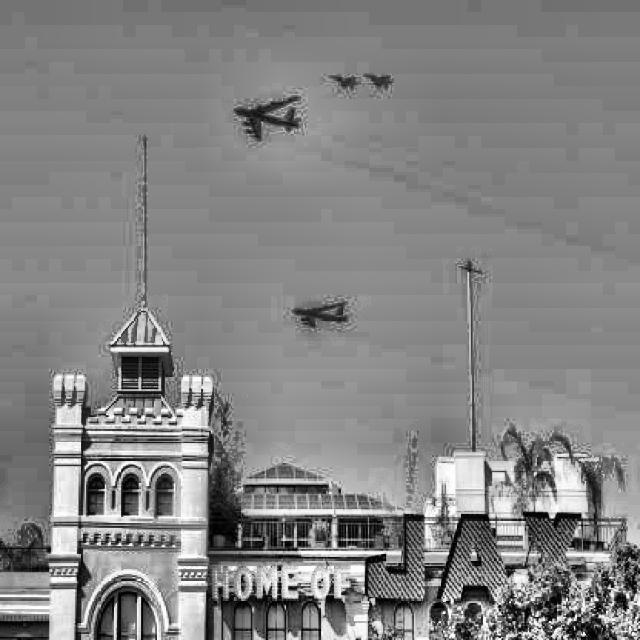B52: (233, 96, 301, 142), (292, 301, 348, 328)
F15: (364, 72, 393, 90), (330, 74, 359, 91)
